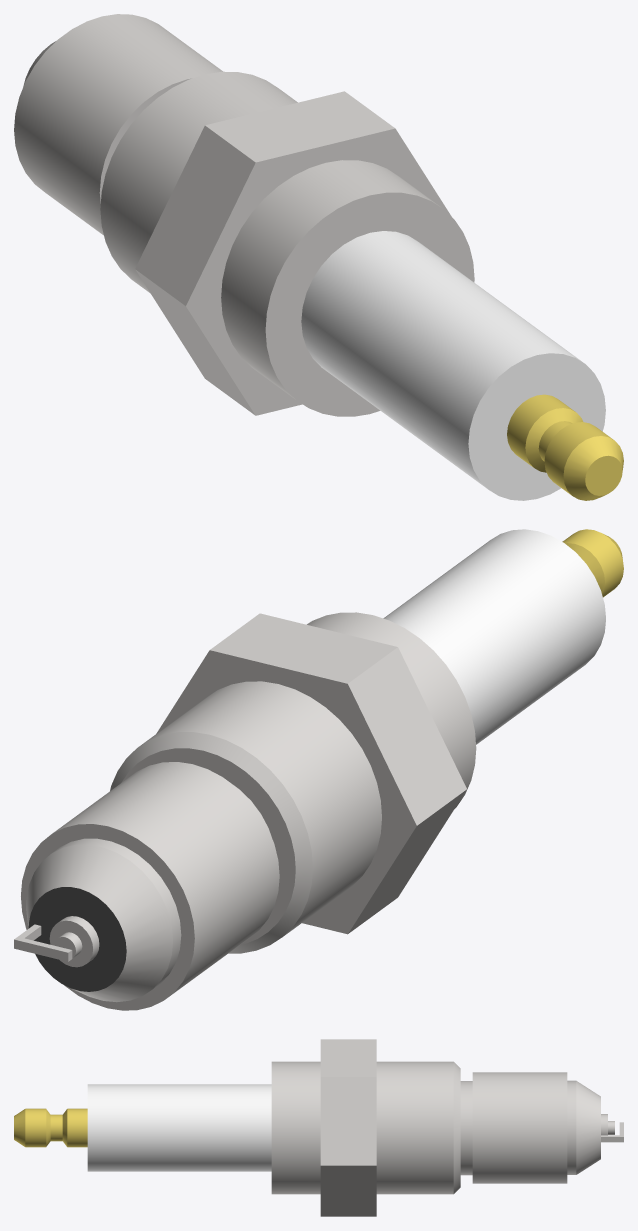
Rendered from spark_plug.glb.
The picture shows the model from 3 angles, top to bottom: view 1: azimuth 30°, elevation 25°; view 2: azimuth 150°, elevation 25°; view 3: azimuth 270°, elevation 25°; orthographic projection. The views are drawn at different scales.
Visible parts, largest first — view 1: SPARK_PLUG; view 2: SPARK_PLUG; view 3: SPARK_PLUG.
Boxes of the visible parts, bbox=[...] form: SPARK_PLUG: bbox=[14, 14, 623, 500]; SPARK_PLUG: bbox=[14, 529, 623, 1010]; SPARK_PLUG: bbox=[14, 1039, 623, 1216].
Bounding box in the file's own units: 0.0254 × 0.022 × 0.0871.
